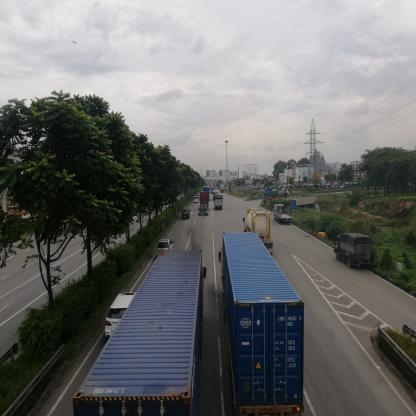car: (107, 292, 130, 340), (157, 238, 177, 253), (181, 208, 191, 220), (195, 197, 200, 203)
container: (223, 234, 300, 416), (125, 255, 203, 416), (266, 186, 291, 199), (201, 195, 210, 217)
truck: (334, 231, 373, 271), (246, 209, 276, 245), (275, 205, 292, 226), (215, 196, 223, 209)
